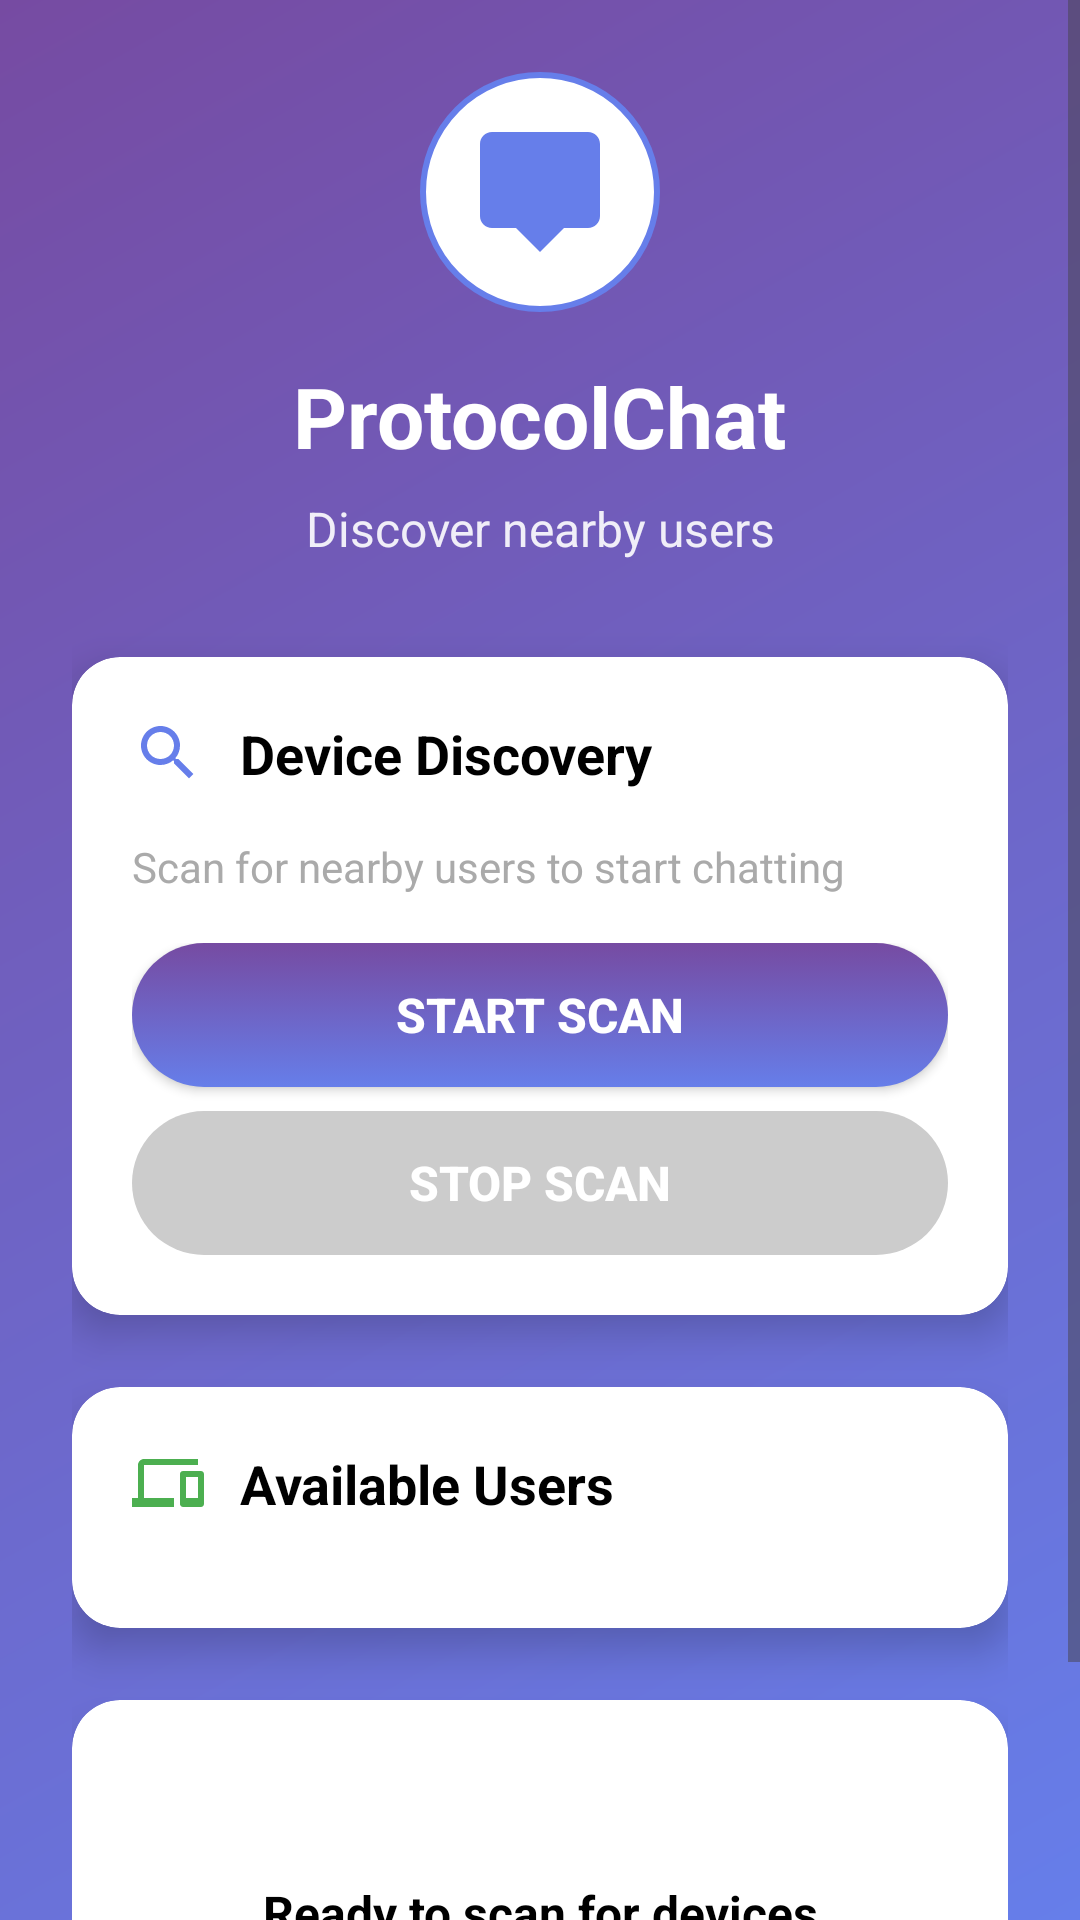

Locate icon controls on the screen. Image size 1080 x 1920, boxes as (x1, y1, x2, y2).
chat bubble: (420, 72, 660, 312)
devices: (132, 1459, 204, 1507)
search: (141, 726, 193, 778)
